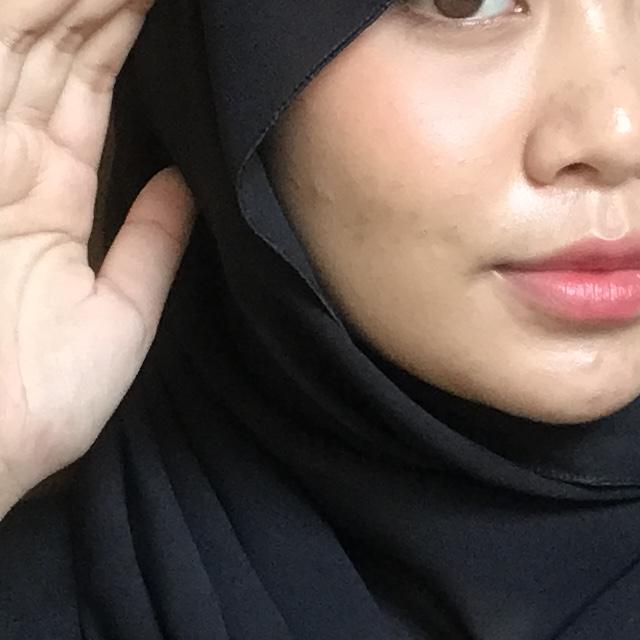mendengar: (0, 0, 220, 476)
